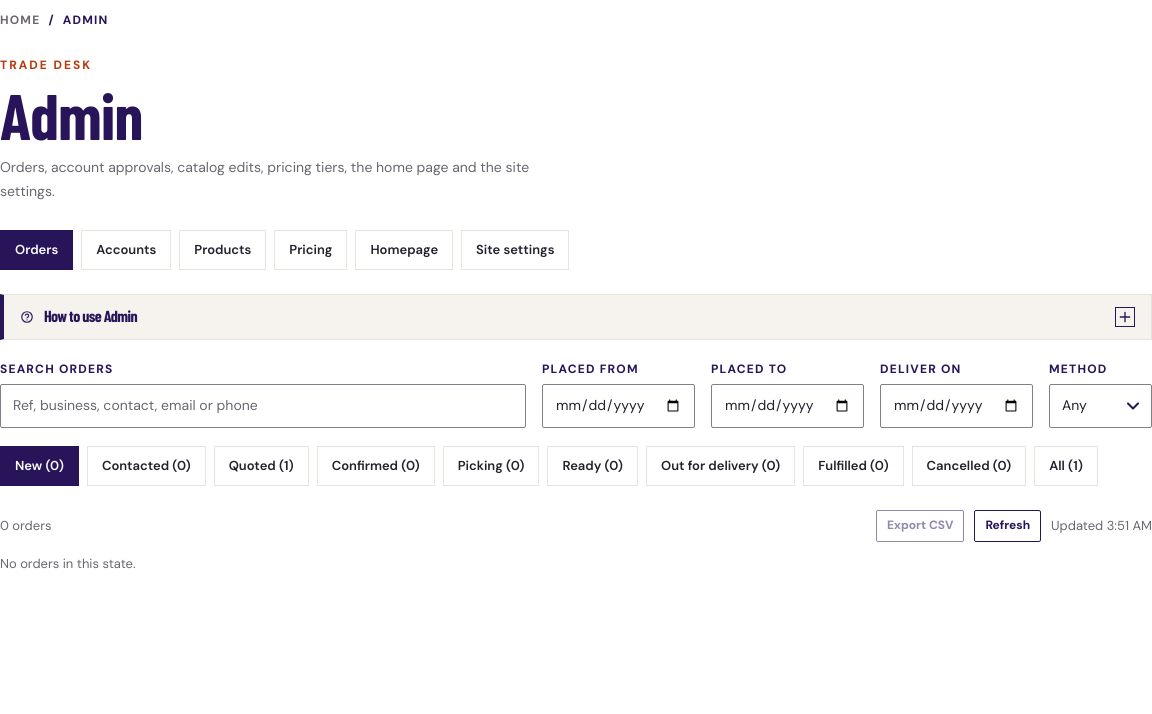
Test: Admin orders with the quote workflow › converts a priced guest quote with admin_convert_quote, unlinked by default (AW-024)
What coordinates should you click on to do the following:
click the button "All (1)"
I would click on:
 (1066, 466)
Its box is x1=1034 y1=446 x2=1098 y2=486.
(page scrolled)
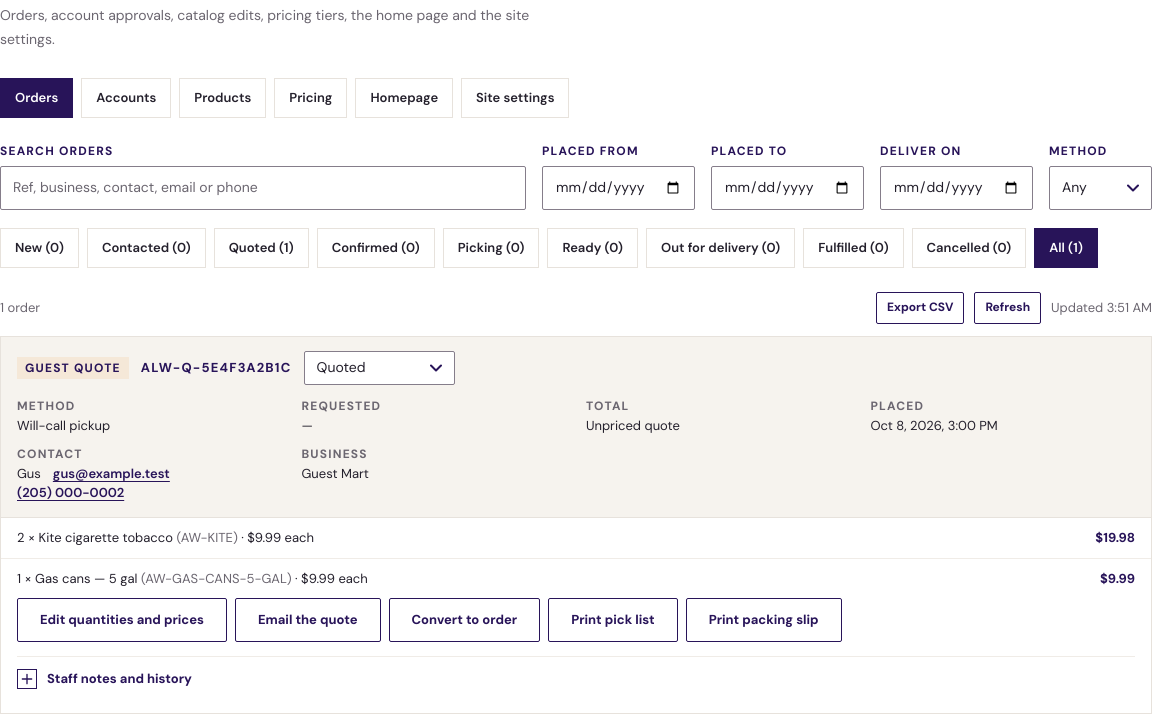
What coordinates should you click on to do the following:
click the button "Convert to order"
I would click on:
 (464, 620)
Its box is x1=388 y1=598 x2=540 y2=642.
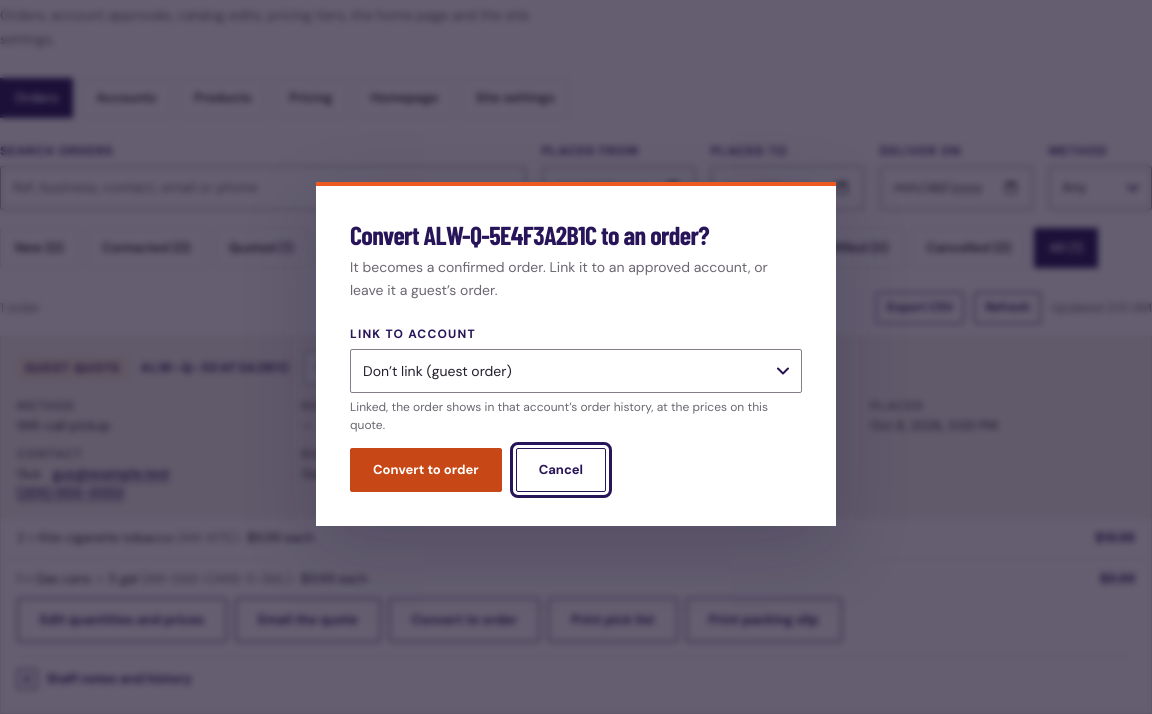
Now the dropdown labelled "Link to account" shows "Don’t link (guest order)", box x1=350 y1=349 x2=802 y2=393
What coordinates should you click on to do the following:
click the button "Convert to order"
I would click on:
 (426, 470)
Its box is x1=350 y1=448 x2=502 y2=492.
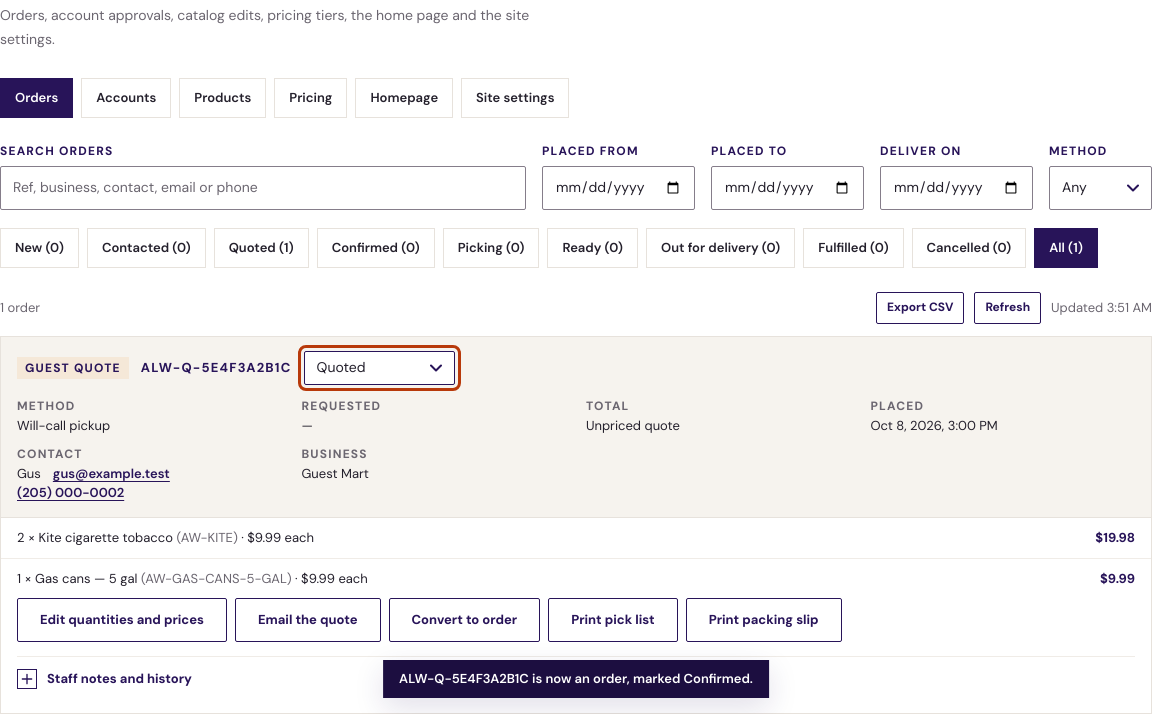
Now the dialog is gone
Now the message with class "admin-status-text" reads "ALW-Q-5E4F3A2B1C is now an order, marked Confirmed.", box x1=399 y1=670 x2=753 y2=687
